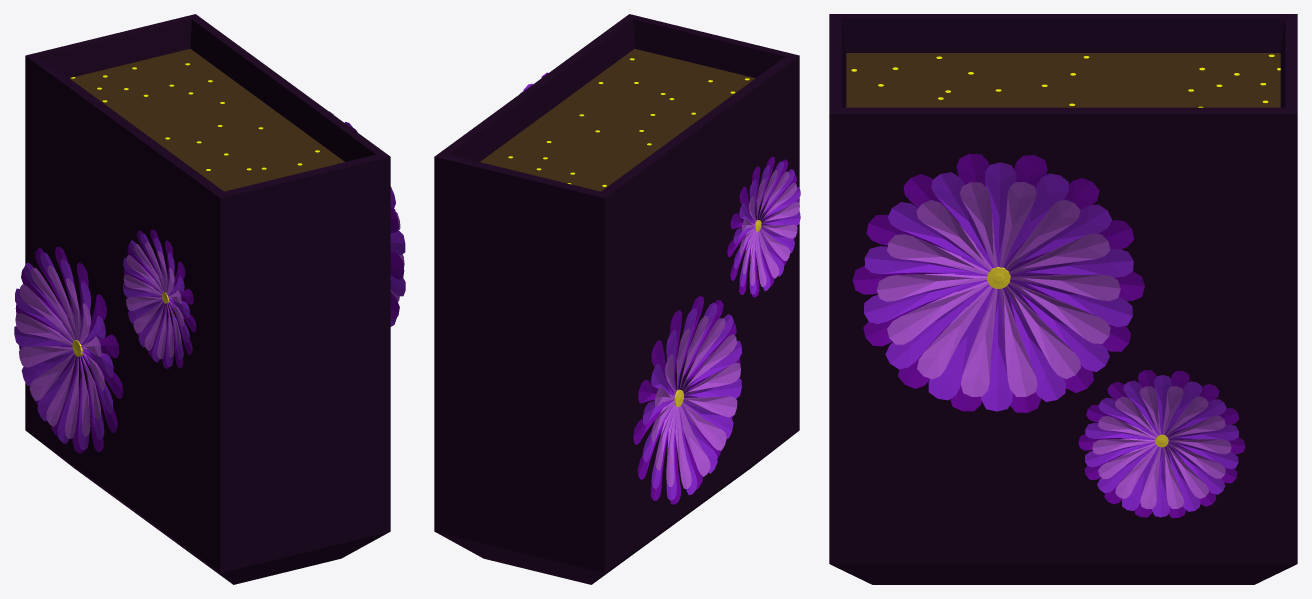
The model's file is Seeds2.fbx.
3 views of the same model, side by side, from view 1: azimuth 30°, elevation 25°; view 2: azimuth 150°, elevation 25°; view 3: azimuth 270°, elevation 25° (orthographic). The views are drawn at different scales.
Visible parts, largest first — view 1: Cube, Plane, Circle.005, Circle.008, Circle.002; view 2: Cube, Plane, Circle.005, Circle.008; view 3: Cube, Circle.002, Plane, Circle.001.
Part boxes in pixels (x1,y1,x2,y2): Cube: [25, 14, 390, 584]; Plane: [69, 48, 344, 191]; Circle.005: [14, 246, 123, 453]; Circle.008: [123, 229, 196, 368]; Circle.002: [329, 111, 405, 326]; Cube: [434, 14, 799, 584]; Plane: [480, 49, 755, 191]; Circle.005: [633, 296, 741, 504]; Circle.008: [727, 157, 800, 297]; Cube: [829, 14, 1297, 584]; Circle.002: [852, 153, 1144, 412]; Plane: [846, 53, 1280, 107]; Circle.001: [1078, 370, 1245, 517].
Size of the model in its own units: 0.5453 by 0.9099 by 0.7882.
